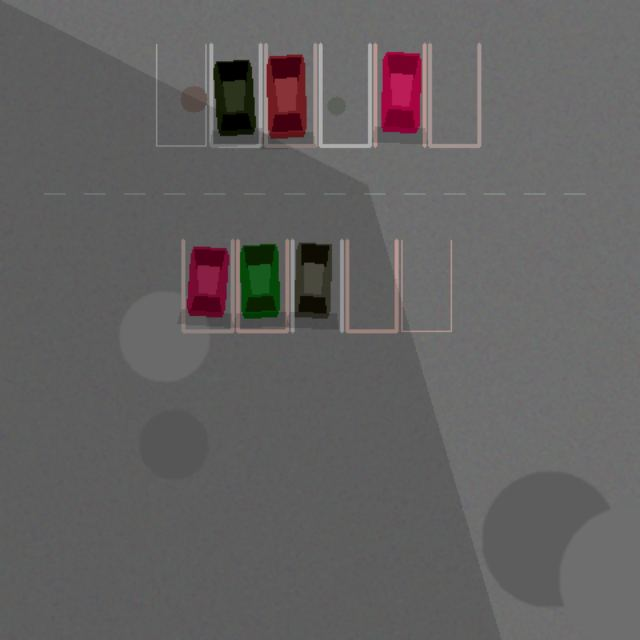space-empty: (429, 44, 479, 145), (156, 44, 205, 145), (320, 44, 369, 145), (401, 240, 451, 331), (347, 240, 396, 331)
space-occupied: (265, 44, 315, 145), (211, 44, 260, 145), (375, 44, 424, 145), (237, 240, 287, 331), (183, 240, 232, 331), (292, 240, 341, 331)
